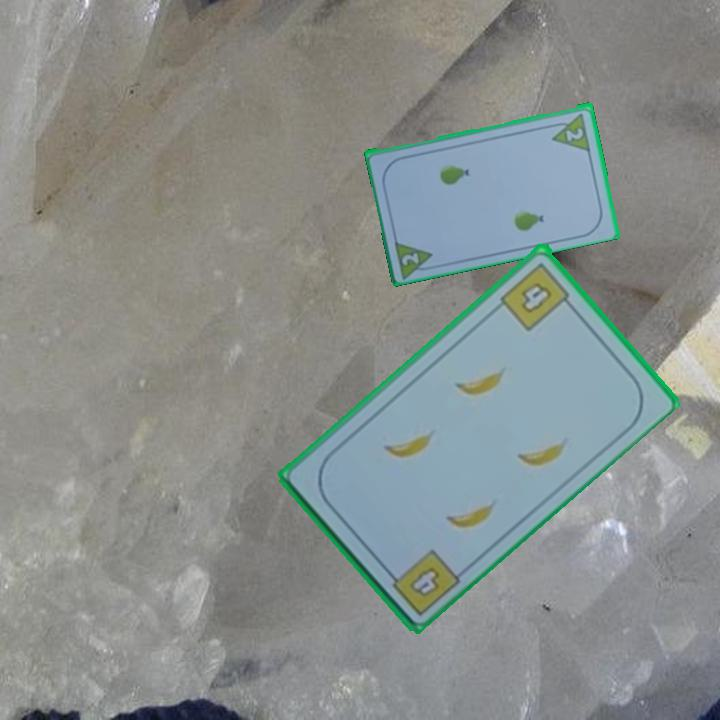2p: (398, 248, 422, 268), (563, 124, 587, 143)
4b: (496, 257, 577, 333), (380, 545, 463, 619)
